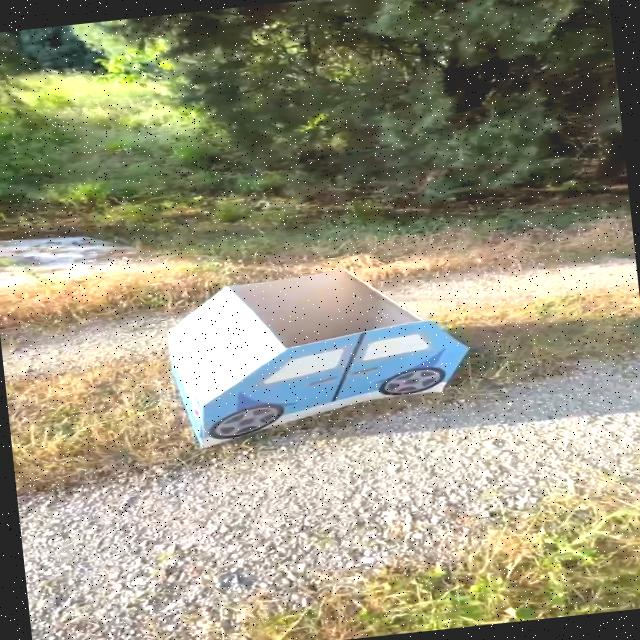blue_car: (64, 234, 497, 480)
